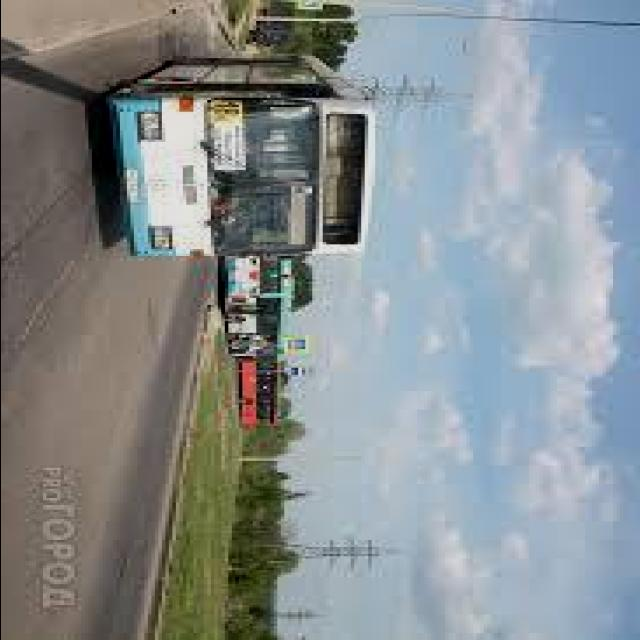bus: (102, 48, 386, 262), (221, 258, 295, 362), (232, 360, 284, 430)
